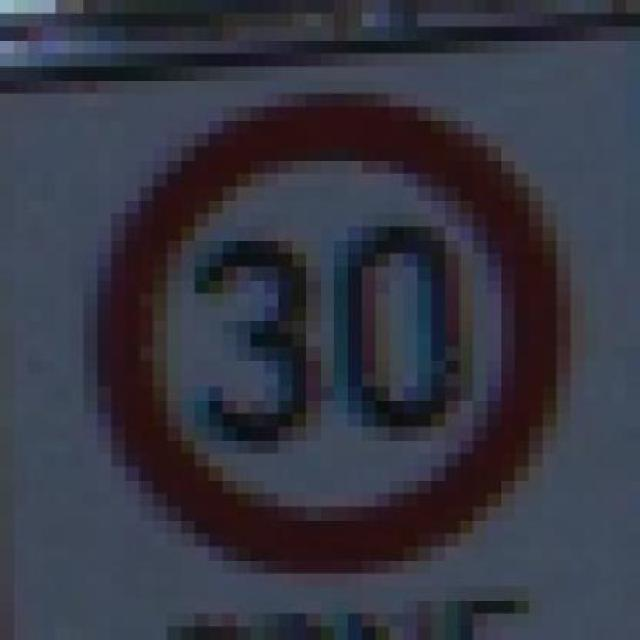Speed Limit 30 KMPh: (56, 80, 626, 614)
